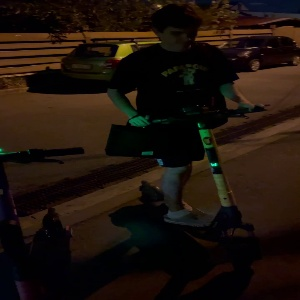human on a scooter: (96, 2, 269, 272)
